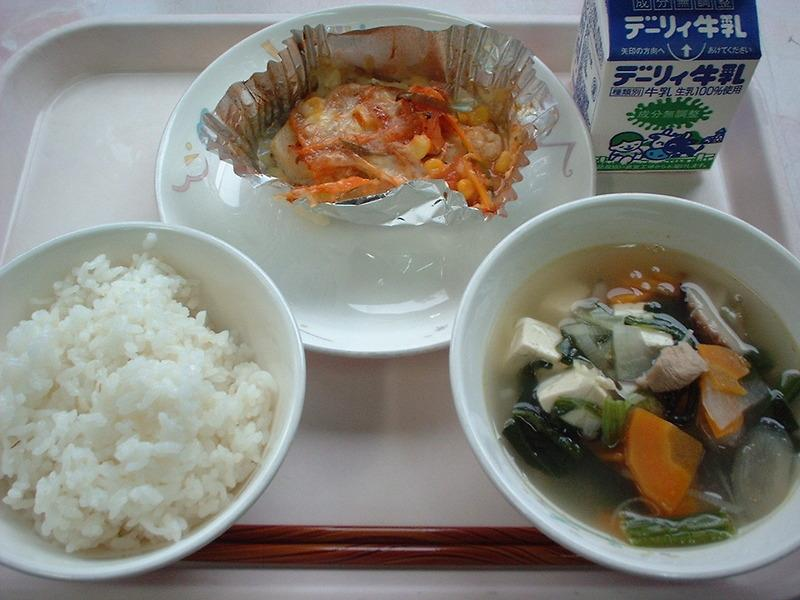plate: (155, 5, 594, 357), (449, 194, 799, 579), (0, 223, 305, 581)
rice: (0, 256, 277, 552)
